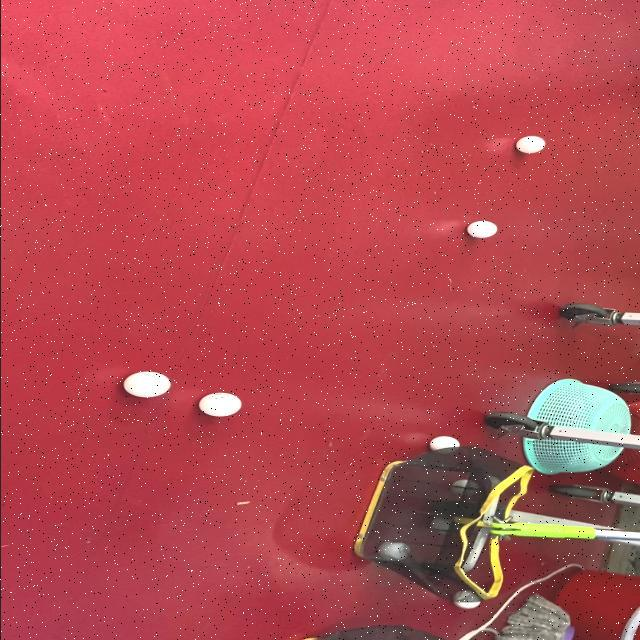ping-pong-ball: (121, 371, 171, 398), (196, 392, 242, 418), (376, 540, 412, 562), (427, 435, 459, 455), (464, 220, 498, 238), (514, 136, 546, 154), (452, 591, 482, 609)
